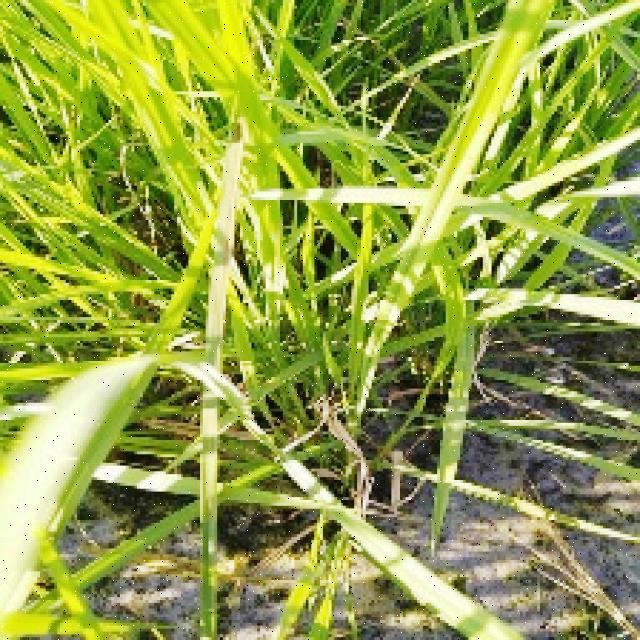health: (0, 0, 457, 491)
